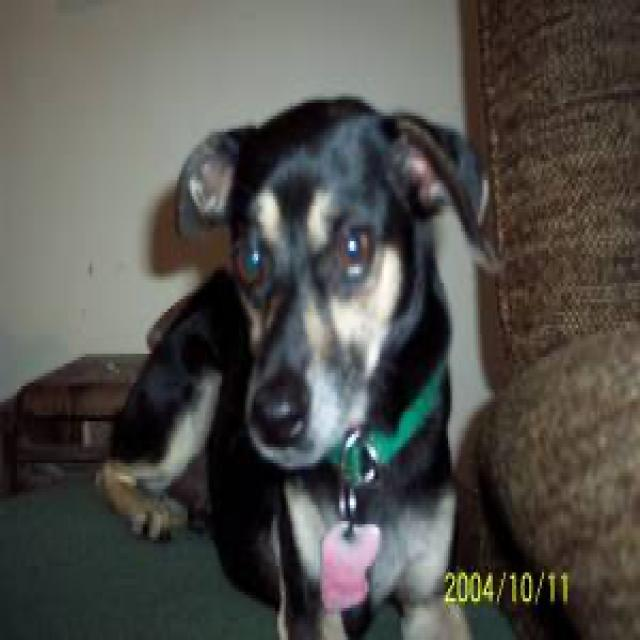dog: (173, 90, 484, 463)
